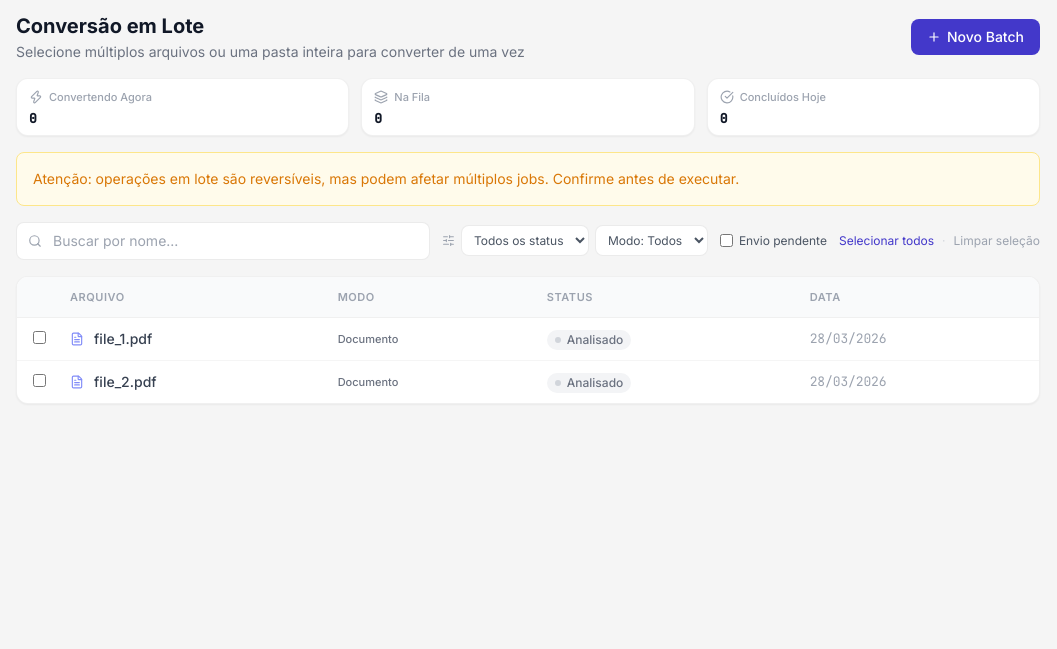
Test: BatchPage › executes batchApplyPreset and shows result
The width and height of the screenshot is (1057, 649).
expect the text "file_1.pdf" is shown: met, box [94,328,152,348]
Note: Select job 1
Click the checkbox named "file_1.pdf" at (40, 337), box [33,330,46,344]
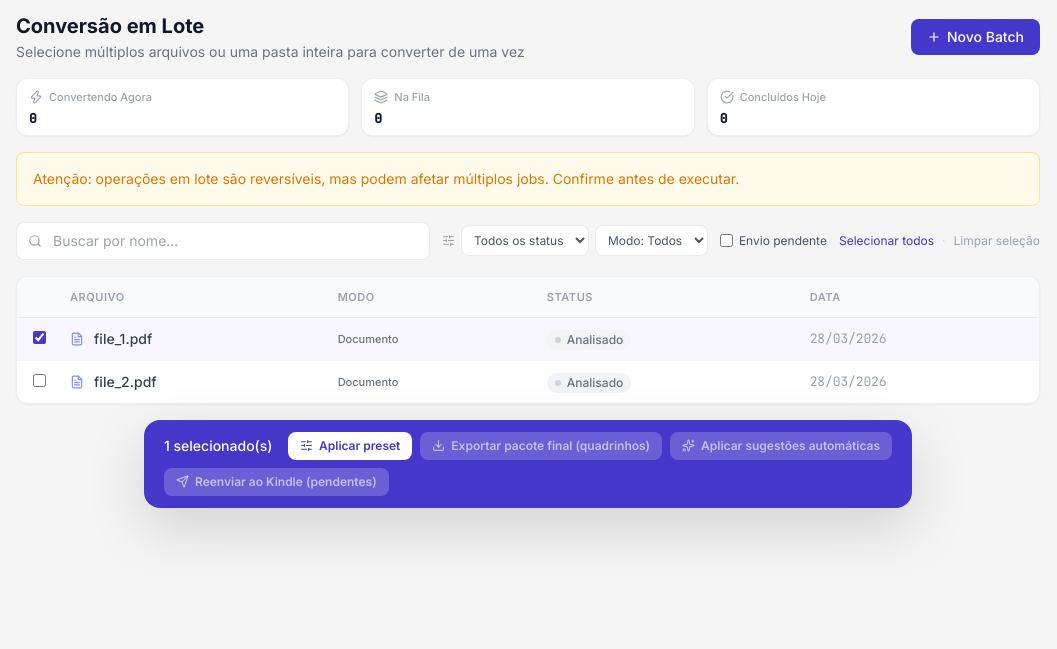
Note: Click "Aplicar preset" button to open inline preset picker
Click the button "Aplicar preset" at (350, 446), box [288,432,412,460]
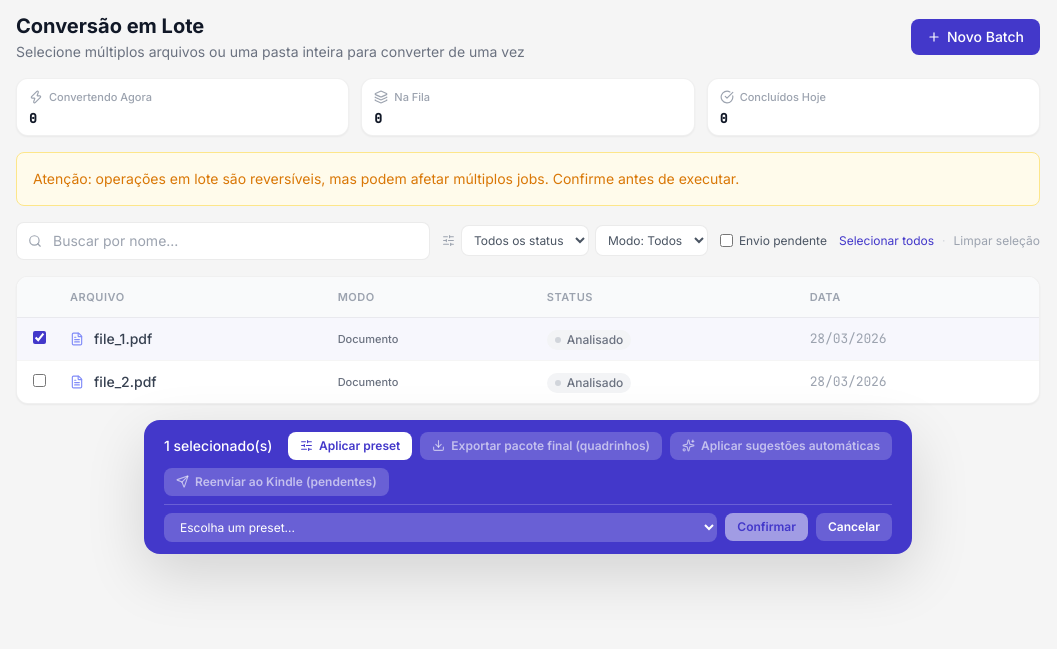
expect the dropdown named "Escolha um preset..." is shown: met
Note: Choose preset from the inline picker
Select "PT → EN (Argos)" in the dropdown named "Escolha um preset..." at (441, 527), box [164,512,717,542]
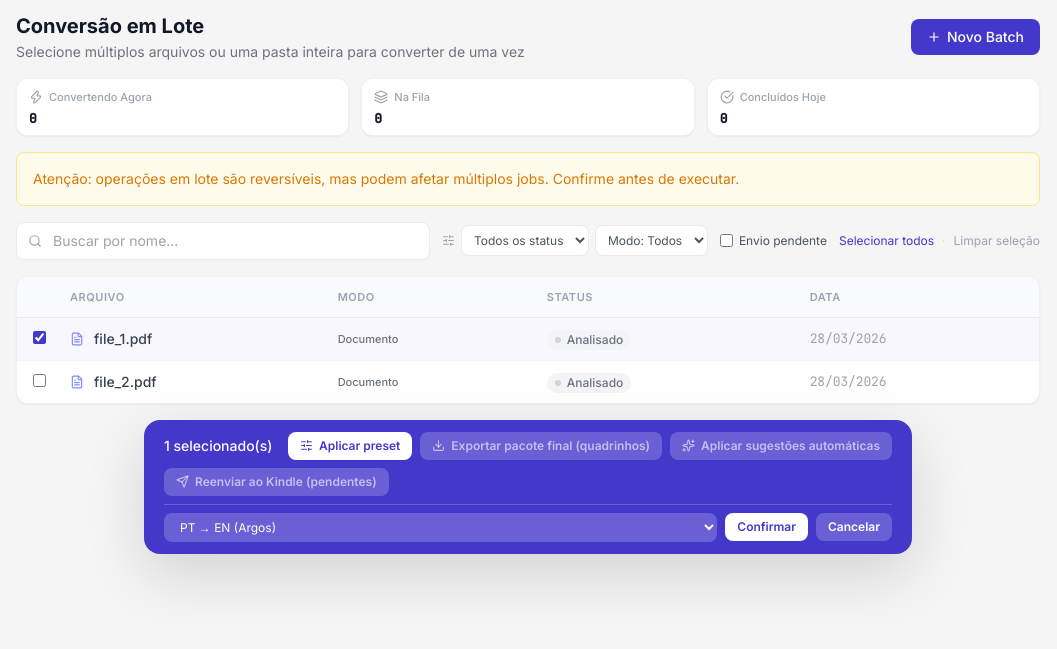
Click the button "Confirmar" at (767, 527), box [725,513,808,541]
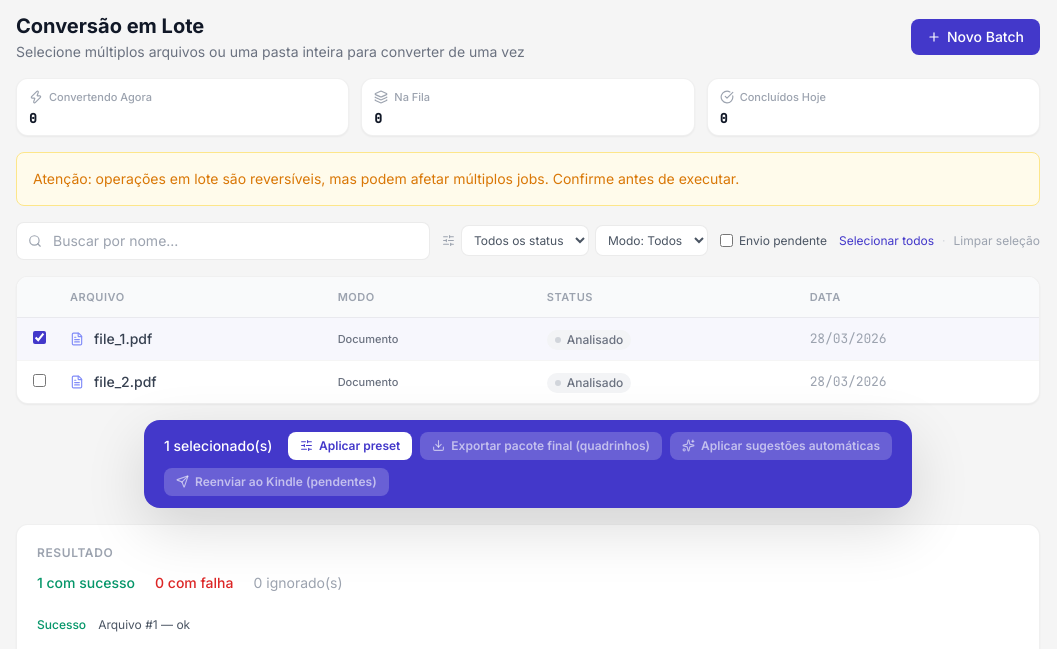
expect the text "Resultado" is shown: met, box [37,544,113,560]
expect the text "1 com sucesso" is shown: met, box [37,572,135,592]
